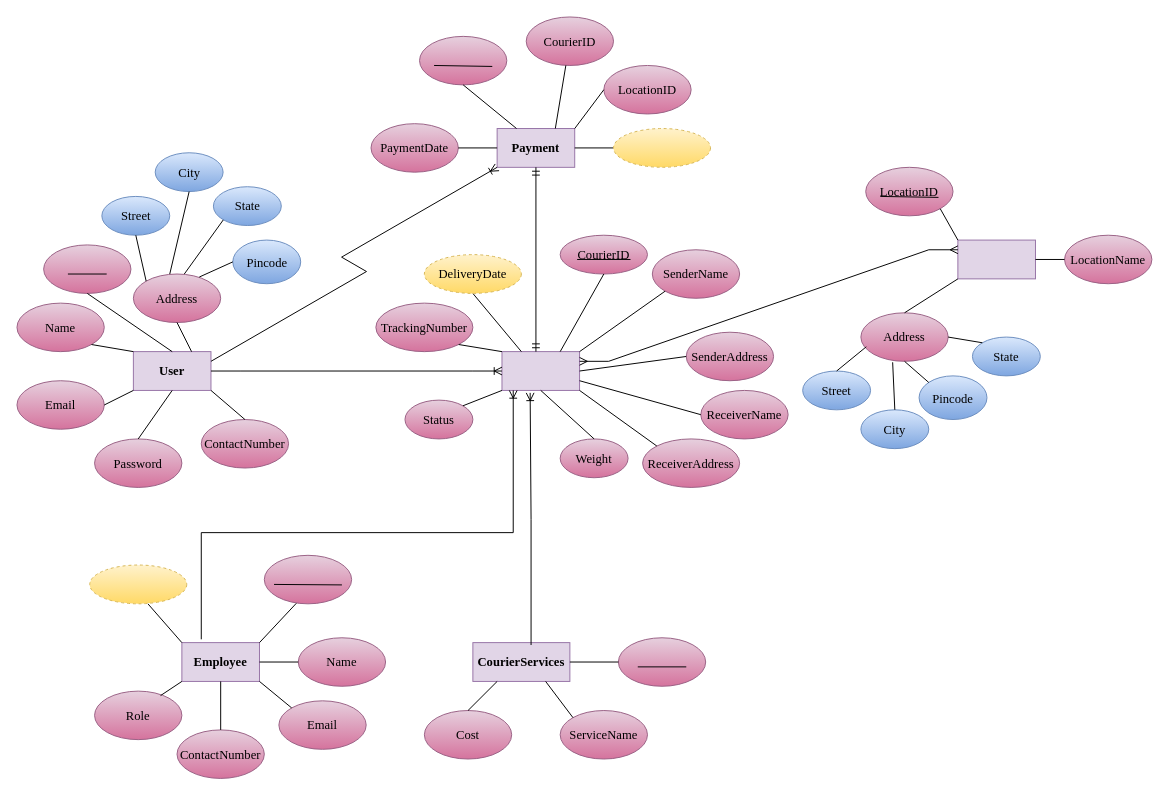
Some shapes in this 1169 by 795 pixel diagram are drawn without their labels. Each missing label, with the centre of its shape:
Amount: the point at 662,147
Courier: the point at 540,370
EmployeeID: the point at 307,579
Location: the point at 996,259
PaymentID: the point at 463,60
Salary: the point at 138,584
ServiceID: the point at 661,661
UserID: the point at 87,268
